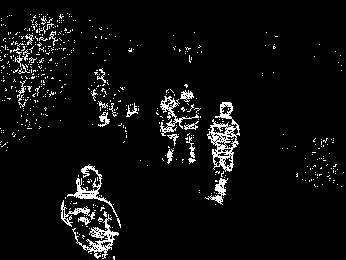person: (62, 165, 123, 260), (207, 100, 241, 205), (177, 83, 201, 166), (158, 88, 178, 165), (89, 68, 112, 128)
